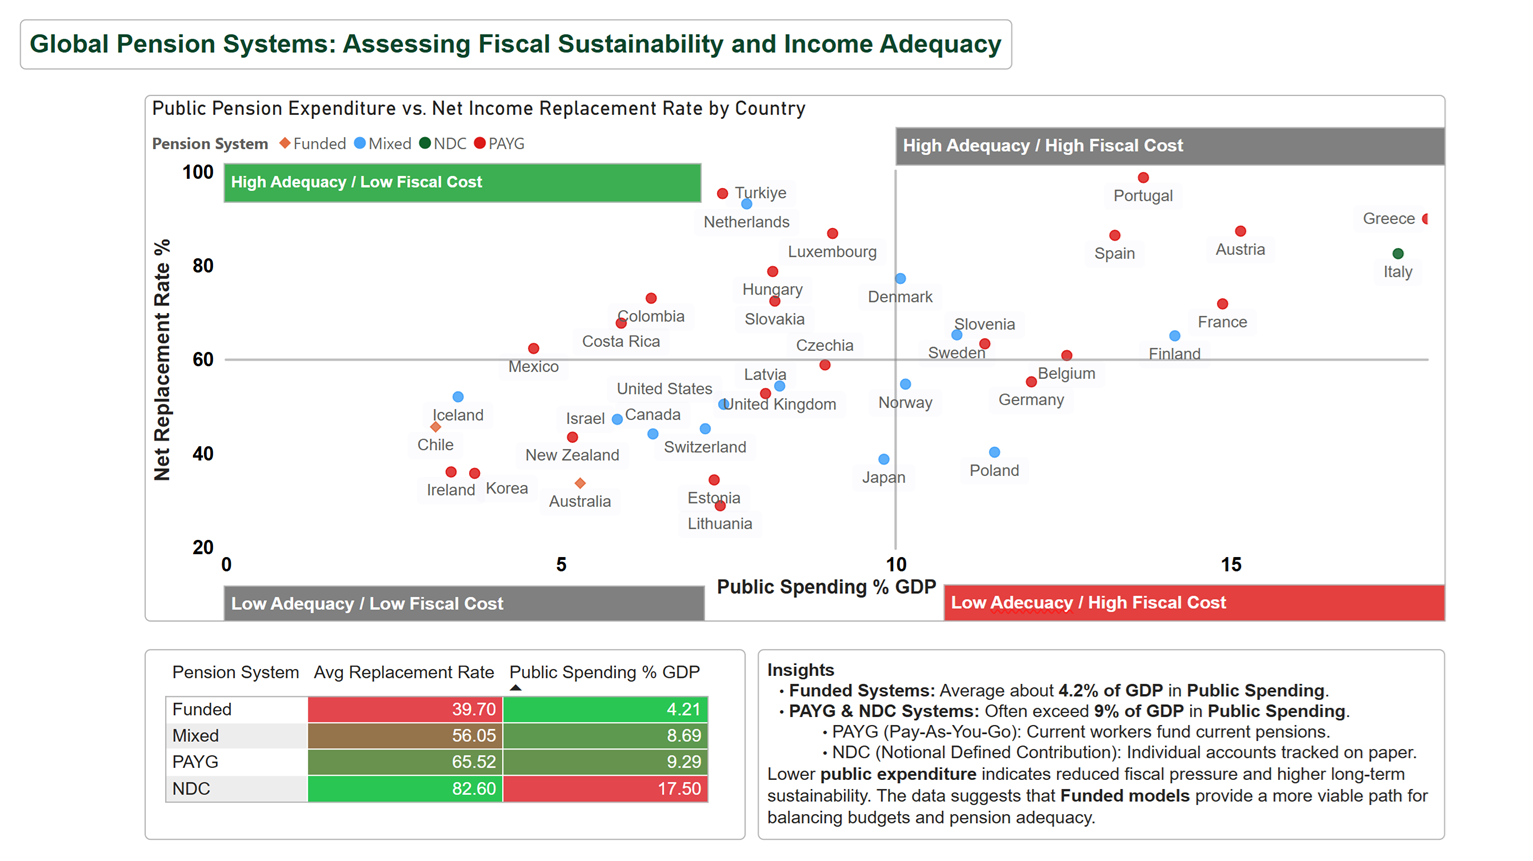

Layout of this report page (visuals, bound fields, positions):
{"tool":"powerbi","page":{"name":"Page 1","canvas":[1280,720],"ordinal":0},"visuals":[{"type":"scatterChart","title":"Public Pension Expenditure vs. Net Income Replacement Rate by Country","fields":{"X":["pension.Public Spending % GDP"],"Y":["pension.Avg Replacement Rate"],"Category":["pension.country"],"Series":["pension.Pension System Archetype"]},"box":[121,80,1084,439],"z":0},{"type":"textbox","box":[781,488,424,31],"z":1000},{"type":"textbox","box":[187,137,398,33],"z":2000},{"type":"textbox","box":[747,107,458,32],"z":3000},{"type":"textbox","box":[187,489,401,30],"z":4000},{"type":"textbox","box":[17,17,827,42],"z":5000},{"type":"textbox","box":[631.9,532.3,573.5,175.2],"z":6000},{"type":"tableEx","fields":{"Values":["pension.Pension System Archetype","pension.Avg Replacement Rate","pension.Public Spending % GDP"]},"box":[120.6,545.7,477.7,150.3],"z":7000}]}

Visuals, with their boxes in screenshot pixels (x1, y1, x2, y2), scaled from the page's 1280x720 canvas onto the 1533x861 screenshot:
"Public Pension Expenditure vs. Net Income Replacement Rate by Country" scatterChart: bbox=(145, 96, 1443, 621)
textbox: bbox=(935, 584, 1443, 621)
textbox: bbox=(224, 164, 701, 203)
textbox: bbox=(895, 128, 1443, 166)
textbox: bbox=(224, 585, 704, 621)
textbox: bbox=(20, 20, 1011, 71)
textbox: bbox=(757, 637, 1444, 846)
tableEx - pension.Pension System Archetype x pension.Avg Replacement Rate: bbox=(144, 653, 717, 832)
